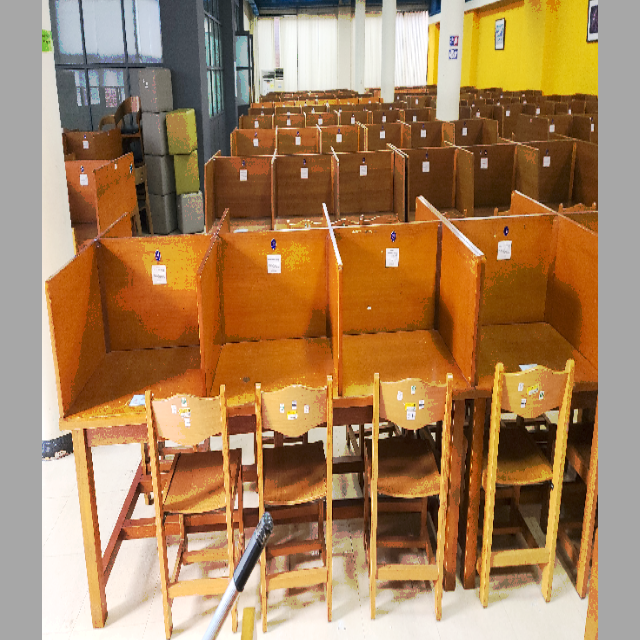empty: (48, 228, 201, 483), (204, 222, 347, 453), (352, 220, 480, 451)
